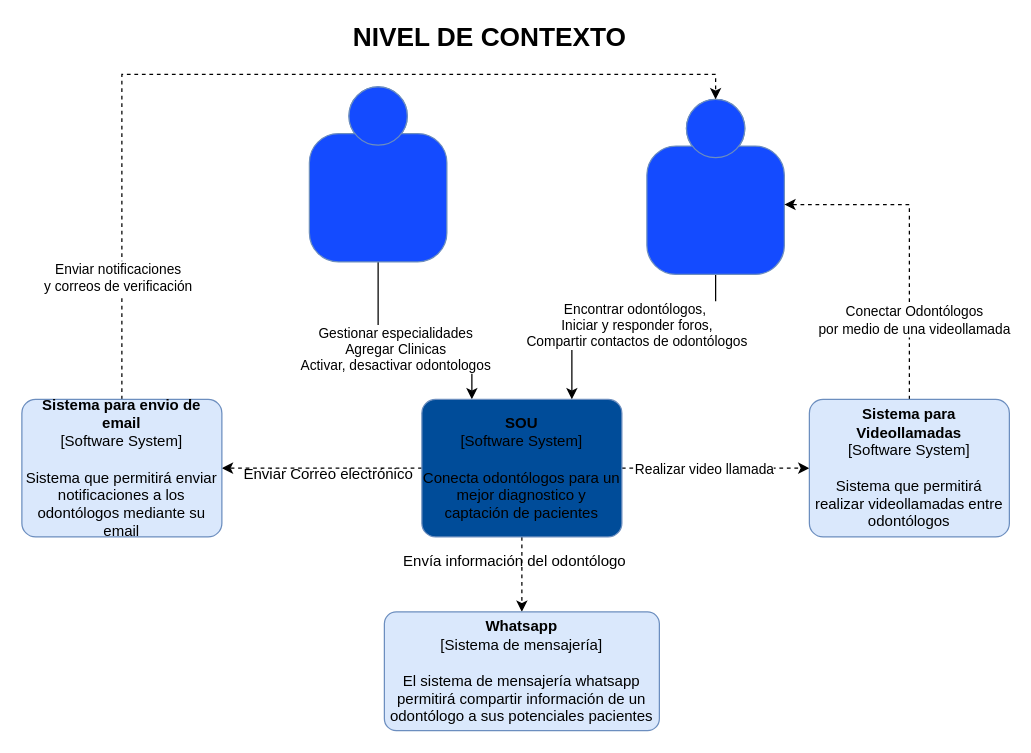
The diagram is 1031 pixels wide and 753 high, and some of its shapes have lost their labels. Here are the shapes that lost their labels. From the top down, the centre of each, then its label:
At (x=377, y=174): "Administrador Persona designada a gestionar el sistema.".
At (x=715, y=186): "Odontólogo Profesional en odontología que podrá acceder a la aplicación".
